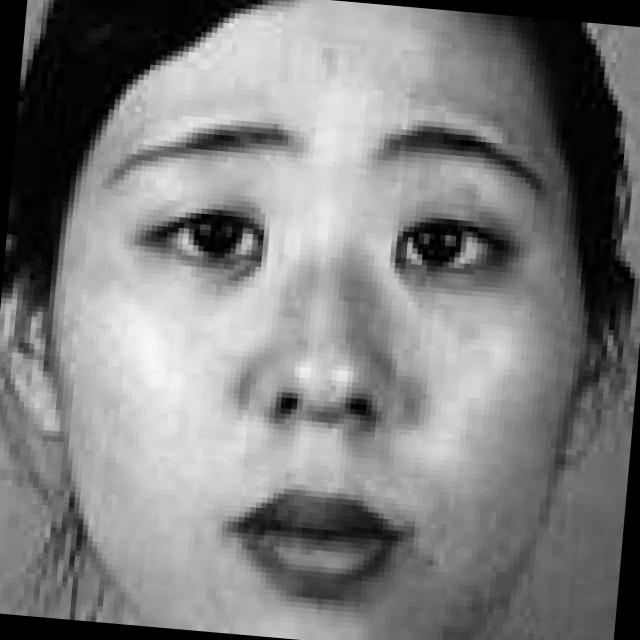sad: (27, 74, 570, 640)
